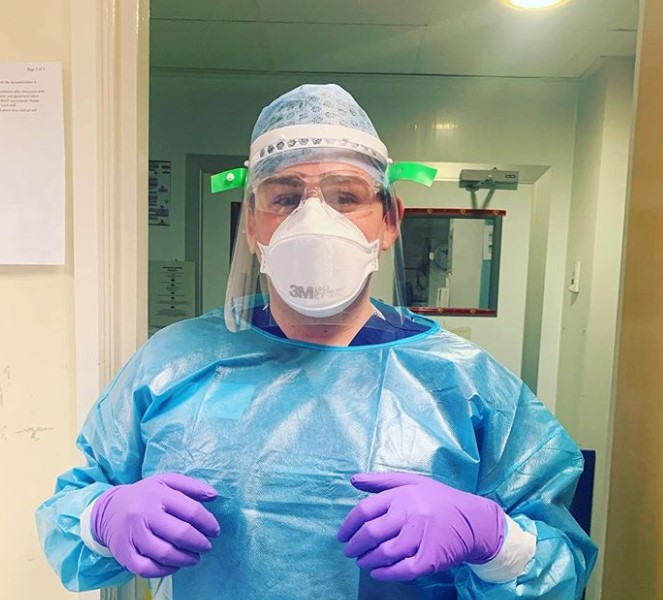face_with_mask: (221, 80, 415, 333)
